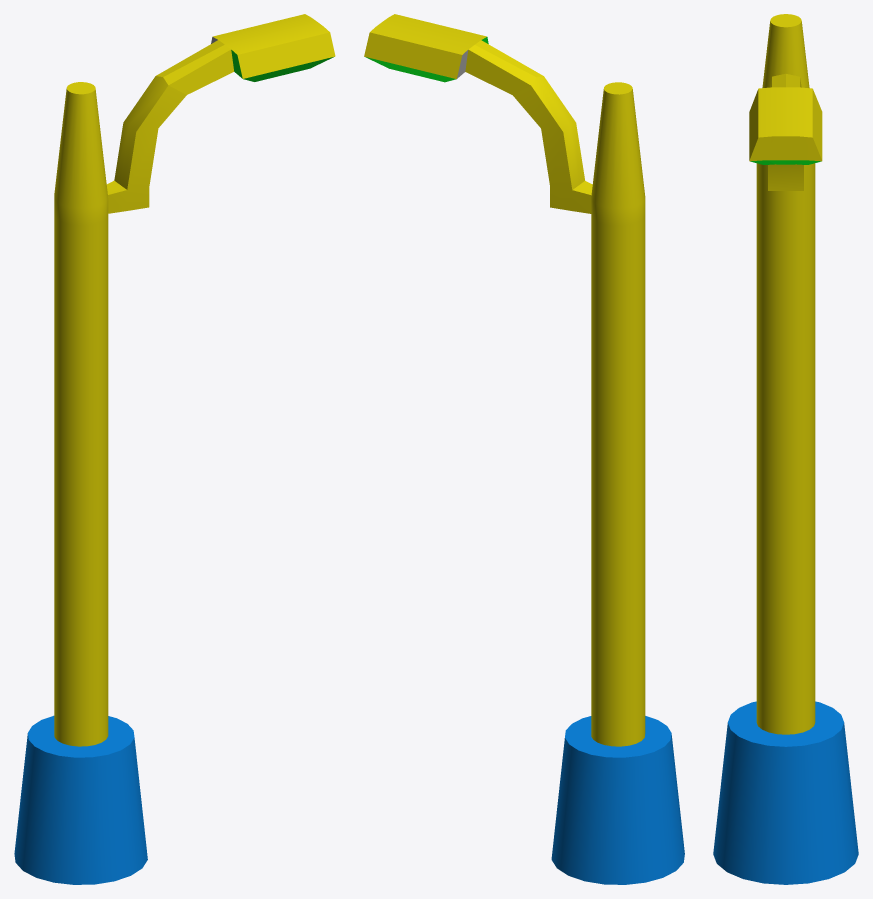
The model's file is Lamp_Post.fbx.
3 views of the same model, side by side, from view 1: azimuth 30°, elevation 25°; view 2: azimuth 150°, elevation 25°; view 3: azimuth 270°, elevation 25° (orthographic). The views are drawn at different scales.
Visible parts, largest first — view 1: pCylinder1; view 2: pCylinder1; view 3: pCylinder1.
Boxes of the visible parts, box(x1,y1,x2,y2) form: pCylinder1: box(14, 14, 335, 884); pCylinder1: box(364, 14, 684, 884); pCylinder1: box(713, 14, 858, 884).
Bounding box in the file's own units: 8.75 × 21.98 × 3.44.
